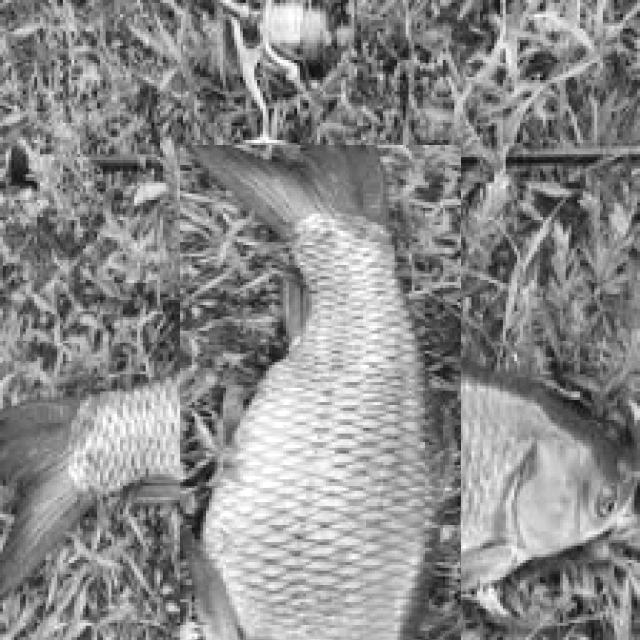Healthy Fish: (89, 234, 550, 640)
